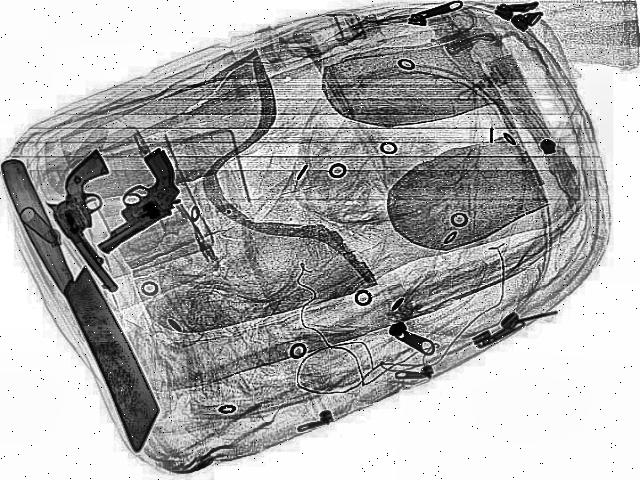Gun: (11, 150, 190, 296), (50, 147, 214, 257)
Knife: (1, 155, 176, 454)
